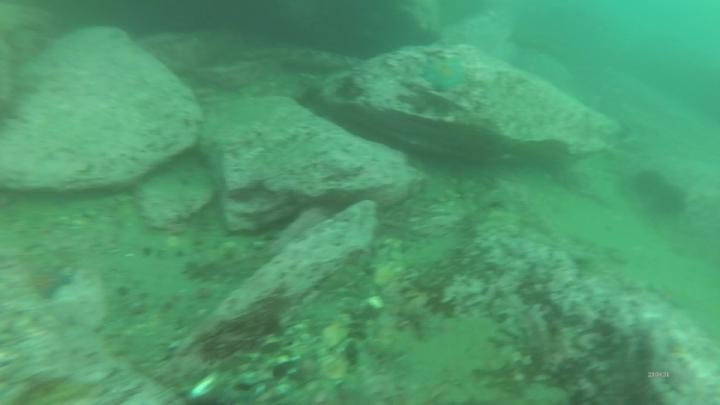echinus: (656, 187, 683, 213), (636, 172, 660, 196)
starfish: (425, 60, 465, 91), (33, 268, 71, 299)
